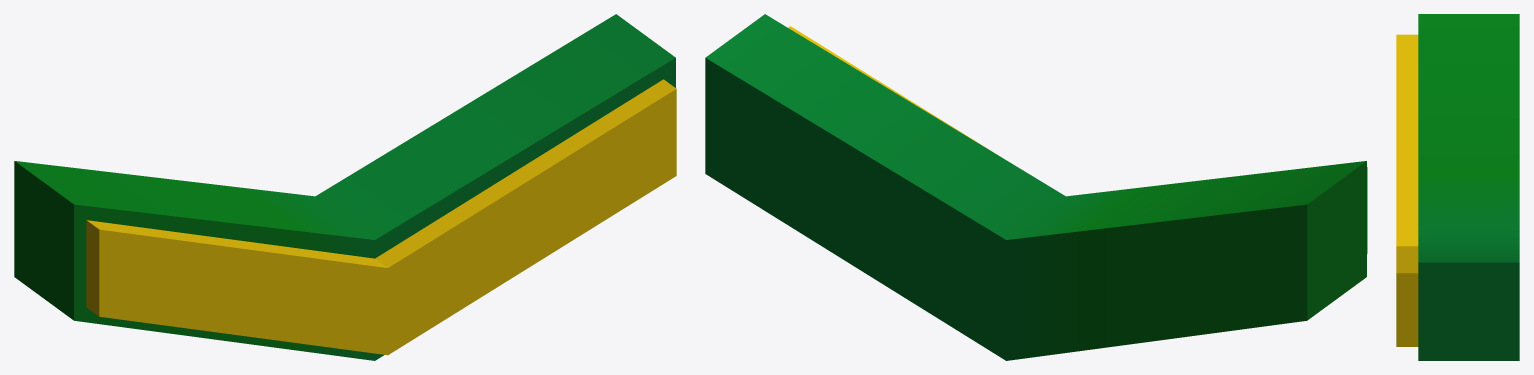
Rendered from upgrade.fbx.
The picture shows the model from 3 angles, left to right: view 1: azimuth 30°, elevation 25°; view 2: azimuth 150°, elevation 25°; view 3: azimuth 270°, elevation 25°; orthographic projection. The views are drawn at different scales.
Visible parts, largest first — view 1: downgrade; view 2: downgrade; view 3: downgrade.
Part boxes in pixels (bbox=[...]): downgrade: bbox=[14, 14, 676, 360]; downgrade: bbox=[705, 14, 1367, 360]; downgrade: bbox=[1396, 14, 1519, 360].
Size of the model in its own units: 99.96 by 36.48 by 20.92.
1 material, 1 textured.
